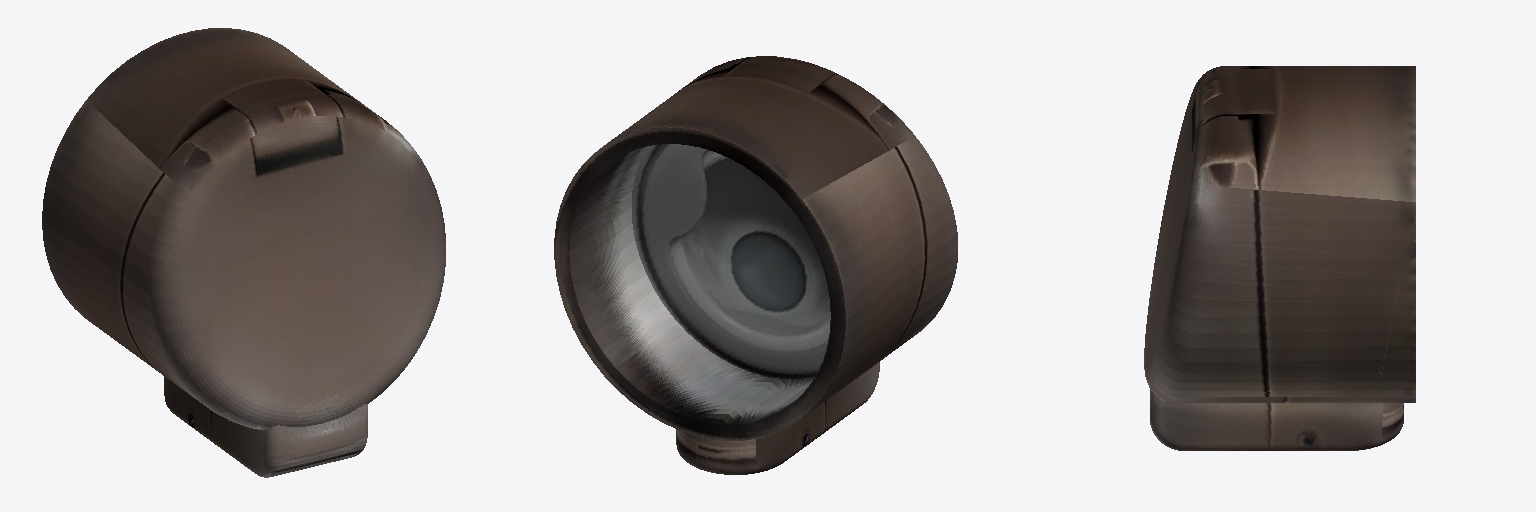
3 views of the same model, side by side, from view 1: azimuth 30°, elevation 25°; view 2: azimuth 150°, elevation 25°; view 3: azimuth 270°, elevation 25° (orthographic).
Size of the model in its own units: 0.057 by 0.065 by 0.0459.
1 materials, 1 textured.